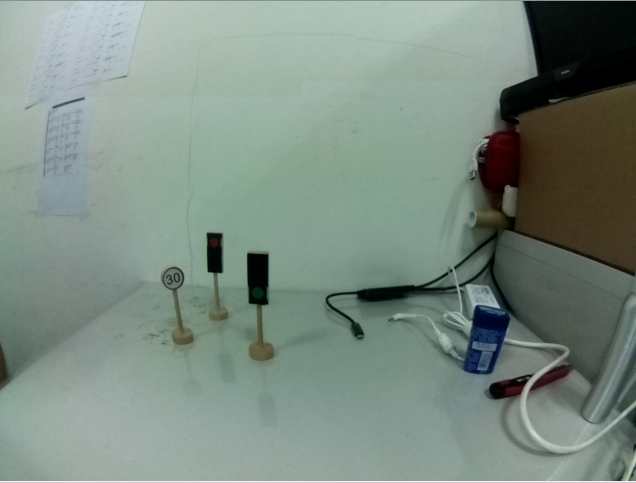Green: (245, 248, 275, 306)
Red: (204, 230, 228, 279)
Speed30: (159, 263, 188, 292)
